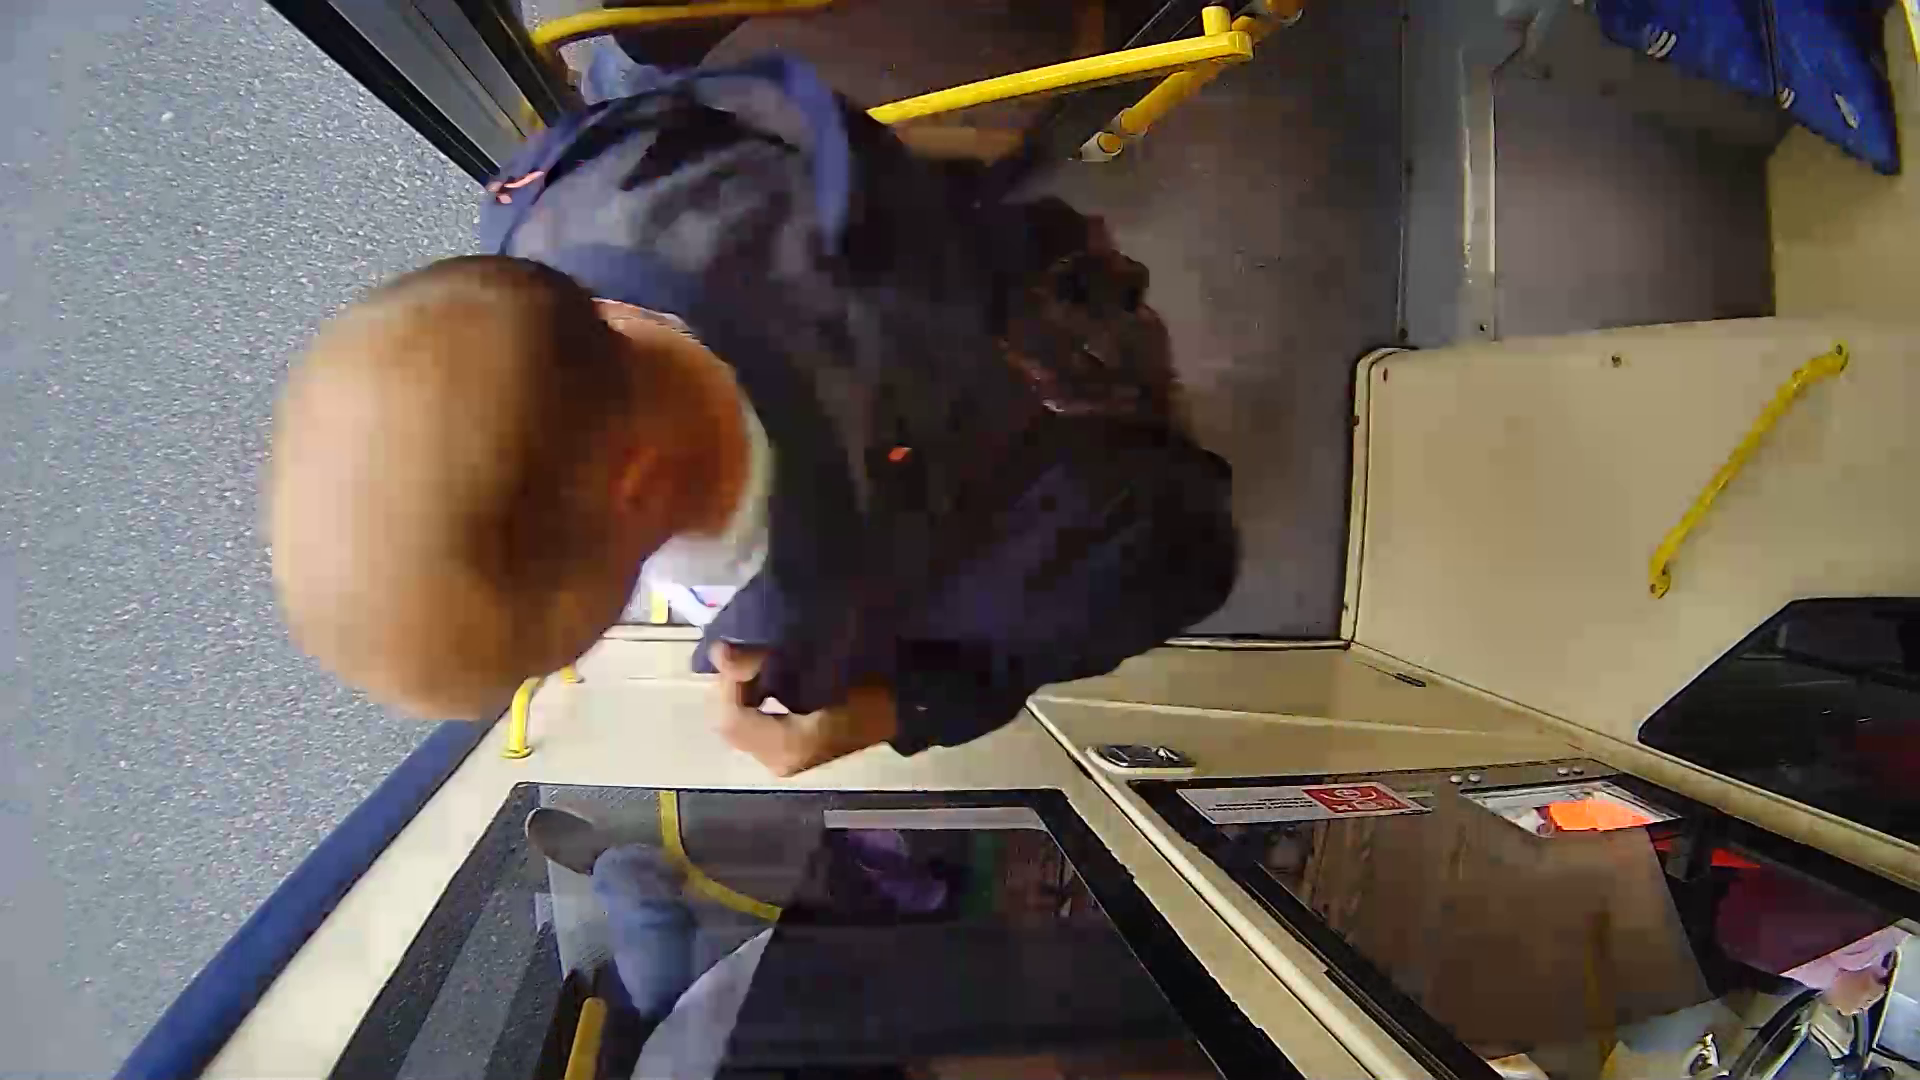person: (333, 46, 1230, 765)
